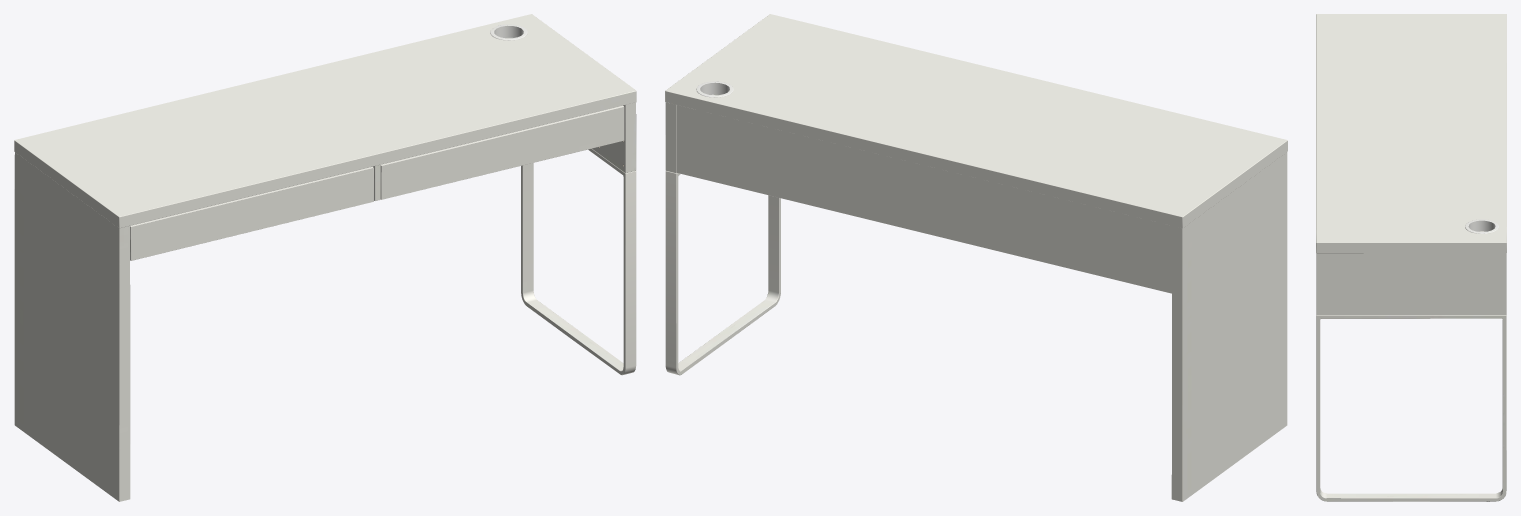
3 views of the same model, side by side, from view 1: azimuth 30°, elevation 25°; view 2: azimuth 150°, elevation 25°; view 3: azimuth 270°, elevation 25° (orthographic). The views are drawn at different scales.
Visible parts, largest first — view 1: model; view 2: model; view 3: model.
Part boxes in pixels (x1,y1,x2,y2): model: (14, 14, 636, 501); model: (665, 14, 1287, 501); model: (1316, 14, 1506, 501).
Size of the model in its own units: 1.42 by 0.7526 by 0.5.
Materials: 1 (1 with a texture image).
